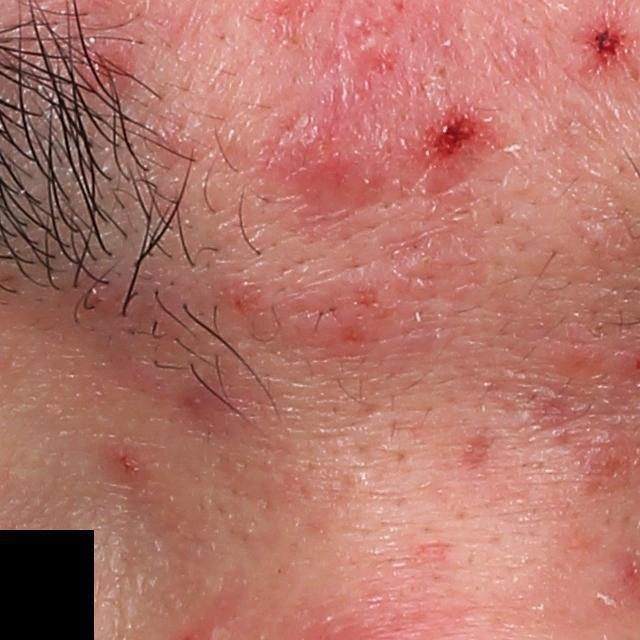papule: (263, 115, 355, 201), (415, 95, 493, 177), (81, 36, 138, 90), (572, 436, 628, 488), (101, 440, 150, 485), (579, 18, 627, 62)
